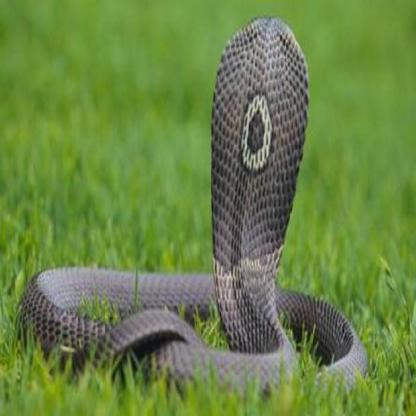Snake: (21, 13, 364, 401)
